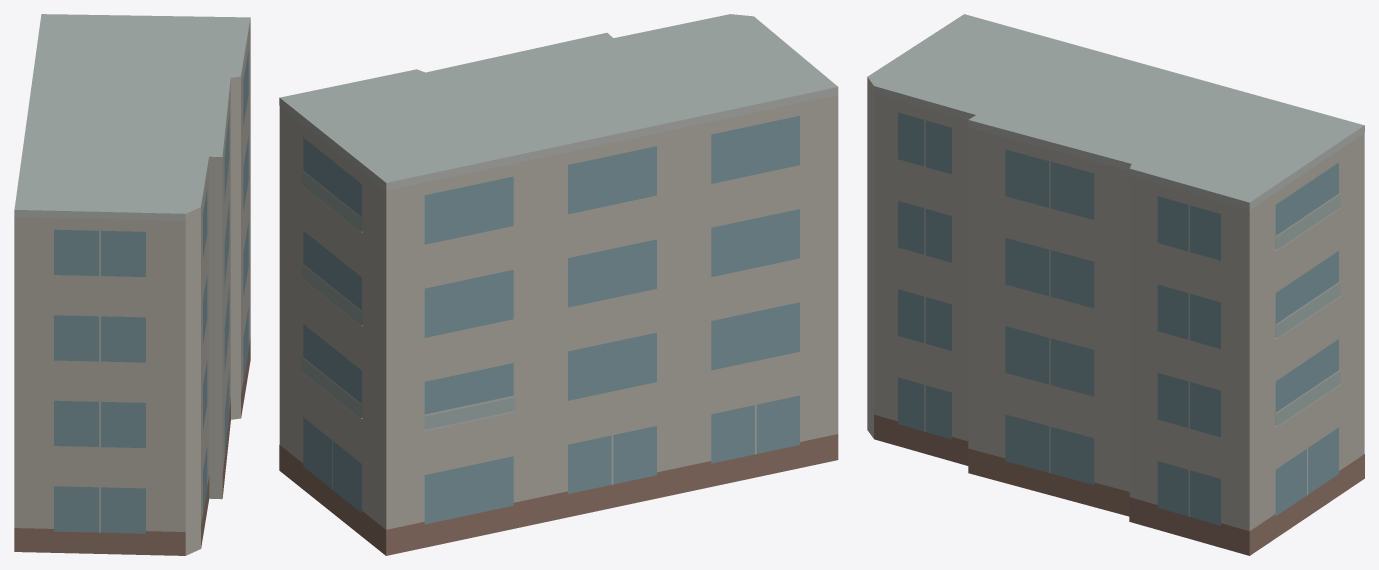
The model's file is survey-upis-32491888.glb.
The picture shows the model from 3 angles, left to right: view 1: azimuth 30°, elevation 25°; view 2: azimuth 150°, elevation 25°; view 3: azimuth 270°, elevation 25°; orthographic projection. The views are drawn at different scales.
Parts seen in each view (by area): view 1: survey-upis-32491888.tmp; view 2: survey-upis-32491888.tmp; view 3: survey-upis-32491888.tmp.
Boxes of the visible parts, box(x1,y1,x2,y2) form: survey-upis-32491888.tmp: box(14, 14, 250, 555); survey-upis-32491888.tmp: box(279, 14, 838, 555); survey-upis-32491888.tmp: box(867, 14, 1364, 555).
Bounding box in the file's own units: 13.18 × 11.5 × 14.68.
